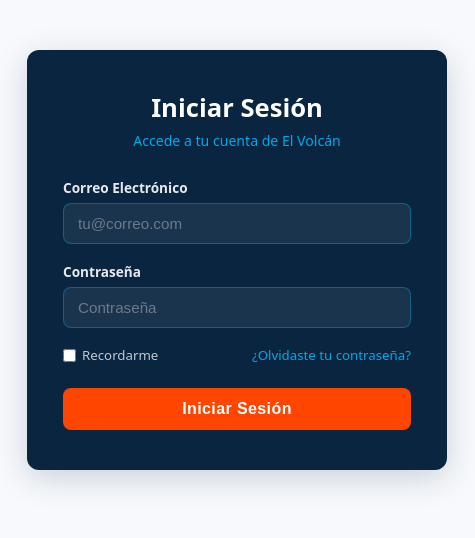
Pruebas Unitarias - Comportamiento de Componentes y Manipulación del DOM › 15. Login: Valida los campos y manipula el DOM mostrando alerta ante credenciales incorrectas
The width and height of the screenshot is (475, 538).
Ingresar credenciales inválidas
In the field with placeholder "tu@correo.com": (237, 224) [63,203,411,244], type "usuario_falso@correo.cl"
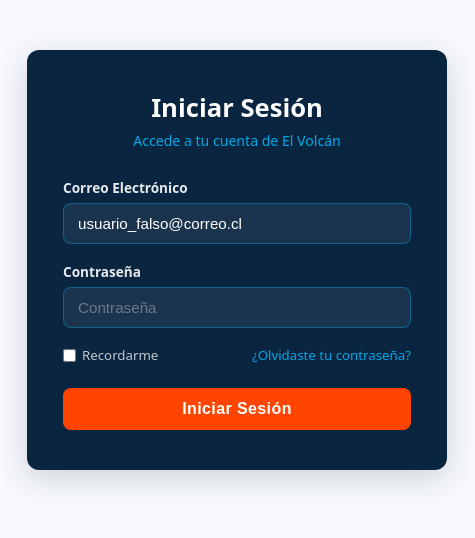
In the password field with placeholder "Contraseña": (237, 308) [63,287,411,328], type "clave_erronea_123"
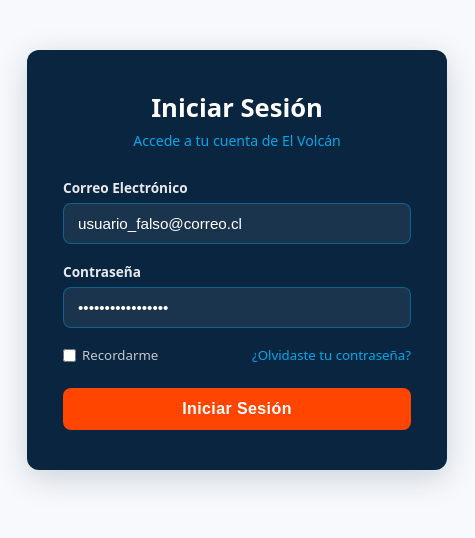
Click the button "Iniciar Sesión": (237, 409) [63,388,411,430]
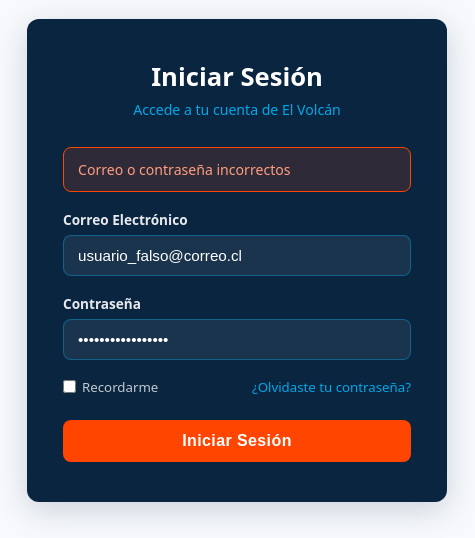
Expected: the text "Correo o contraseña incorrectos" is shown, [63,146,411,192]
